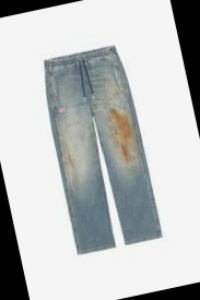earth: (108, 106, 140, 165)
